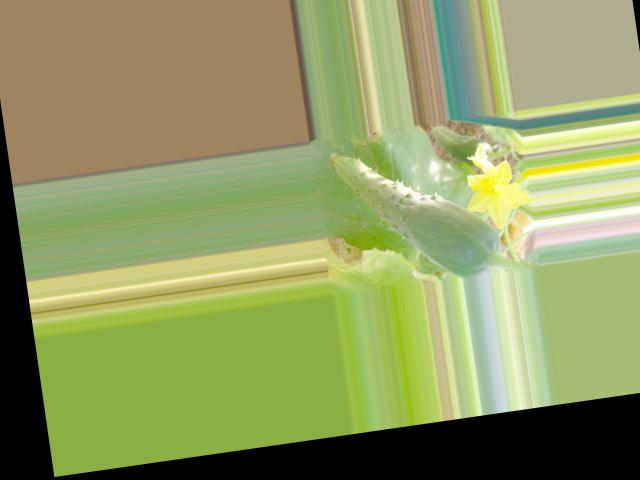cucumber: (328, 130, 505, 294)
